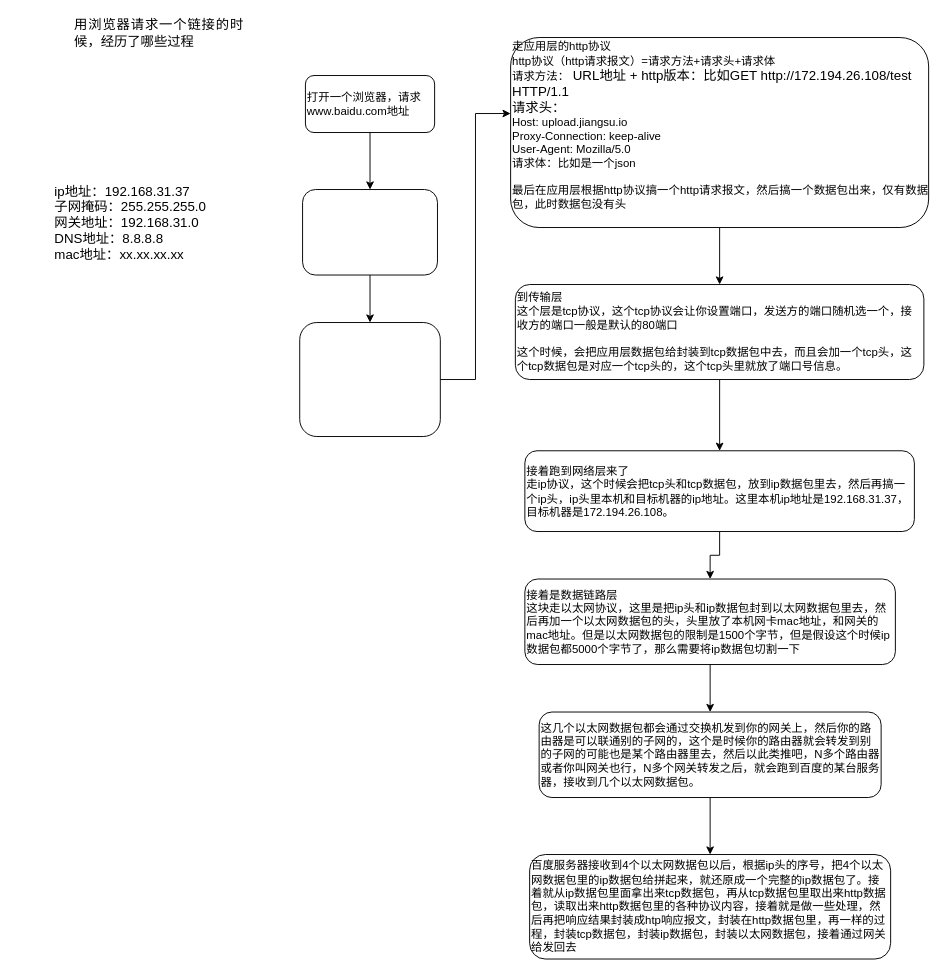
This 945x976 diagram has some shape labels left out. The centre of each missing label's shape, as x and y in pixels:
"DNS服务器解析域名解析出ip地址，并与子网掩码ip地址做与运算，将计算结果与本机ip比较，是不是一个子网，发现不是" goes at point (369, 232).
"发送一个数据包给网关，其实你就认为是我们的路由器吧，就是192.168.31.1 将数据包先通过以太网协议广播到网关上去，通过网关再给他发送出去" goes at point (369, 379).
